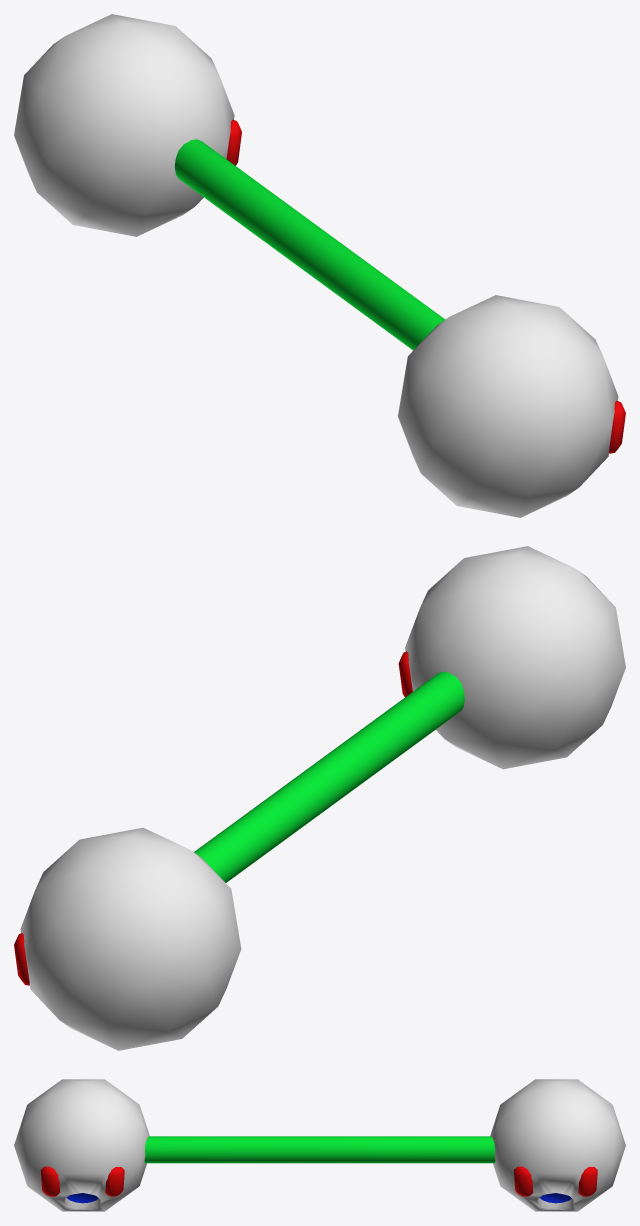
File: doubler.fbx
3 views of the same model, one above another, from view 1: azimuth 30°, elevation 25°; view 2: azimuth 150°, elevation 25°; view 3: azimuth 270°, elevation 25° (orthographic). The views are drawn at different scales.
Parts seen in each view (by area): view 1: Icosphere, Icosphere.001, Cylinder; view 2: Icosphere.001, Icosphere, Cylinder; view 3: Icosphere.001, Icosphere, Cylinder, Sphere.003, Sphere, Sphere.002, Sphere.001.
Boxes of the visible parts, x1,y1,x2,y2 form: Icosphere: (398,295,618,517); Icosphere.001: (14,14,234,236); Cylinder: (174,139,444,350); Icosphere.001: (20,827,241,1050); Icosphere: (405,546,625,769); Cylinder: (194,671,464,882); Icosphere.001: (490,1079,625,1211); Icosphere: (14,1079,149,1211); Cylinder: (144,1136,495,1163); Sphere.003: (513,1166,533,1196); Sphere: (40,1166,60,1196); Sphere.002: (105,1167,124,1196); Sphere.001: (578,1167,597,1196).
Bounding box in the file's own units: 190 × 200 × 881.
